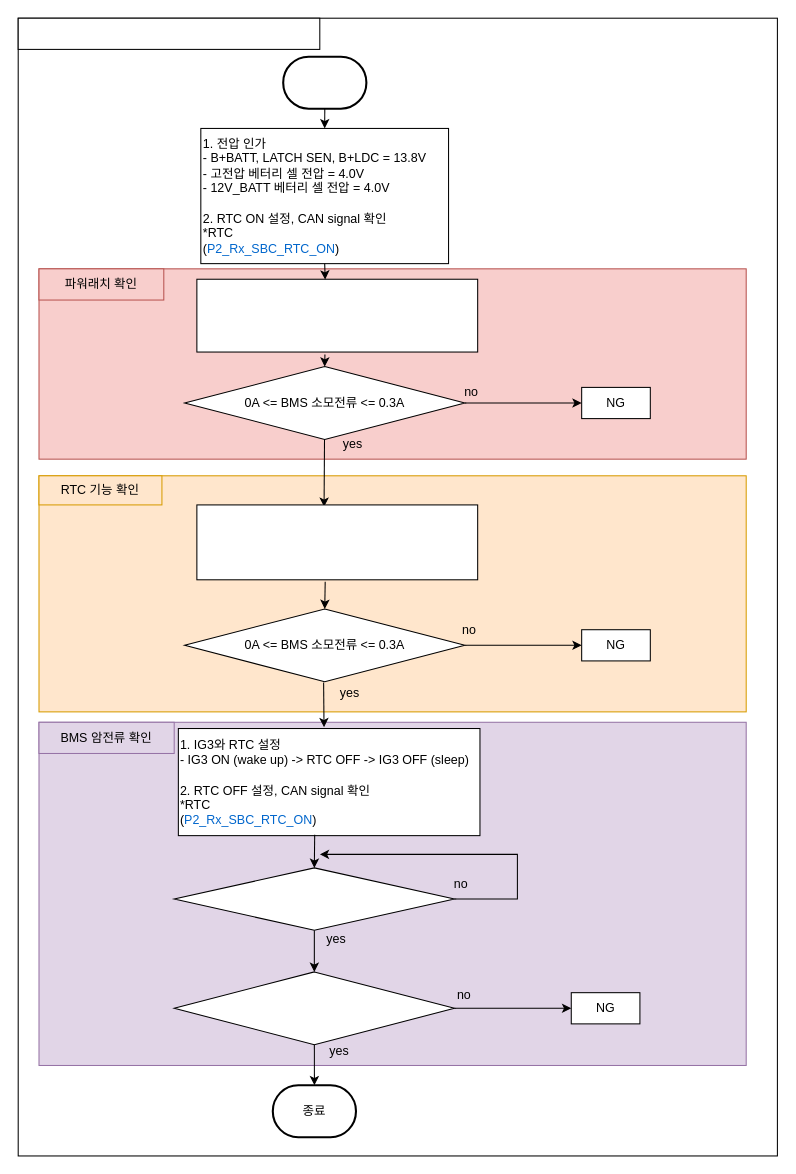
Some shapes in this 796 by 1174 pixel diagram are drawn without their labels. The shapes that lost their labels are listed below. From the top down, each one's box as (x1, y1, x2, y2) in pixels, then its label:
(17, 17, 320, 49): 파워래치 / RTC 기능, BMS 암전류 확인
(282, 55, 367, 109): 시작
(196, 278, 478, 352): 1. Wake up (IG3)소스 제거 2. 파워래치 (2초) 2초 동안 BMS 소모전류(평균값) 수치 확인
(196, 504, 478, 580): 1. RTC유지시간확인 - RTC ON 시간 (1초) + SLEEP 시간 (1초) 2. 2초 동안 BMS 소모전류(평균값) 수치 확인
(173, 867, 454, 930): 3초가 지났는가? (파워래치가 2초이기 때문)
(173, 971, 454, 1045): BMS 암전류 <= 0.5mA
